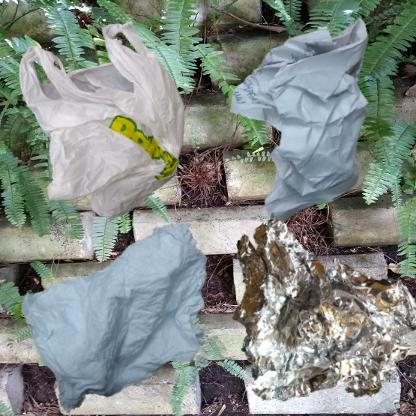aluminio: (213, 213, 416, 416)
bolsa: (10, 10, 219, 249)
papel: (10, 213, 272, 416), (213, 10, 416, 252)
